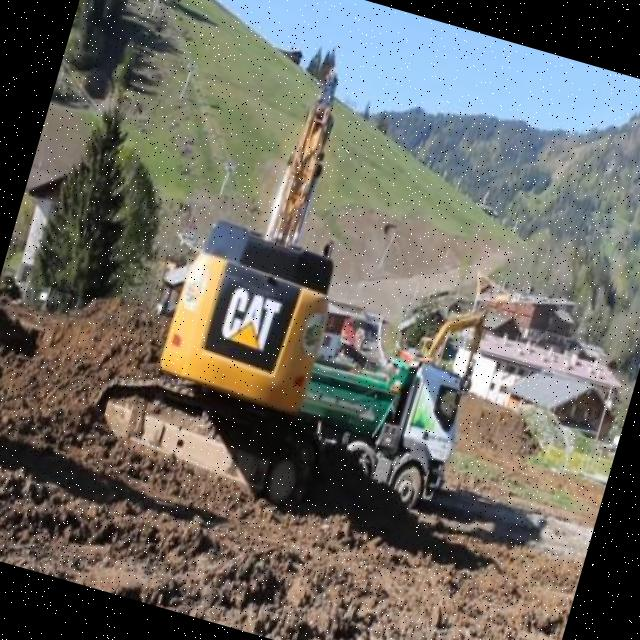Dump Truck: (284, 329, 474, 517)
Excavator: (79, 28, 424, 516), (390, 284, 493, 399)
